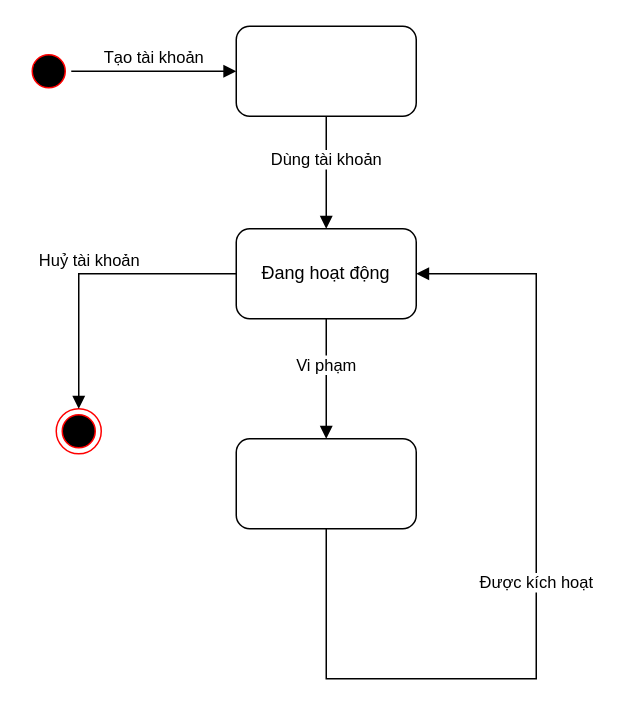
The diagram is 620 pixels wide and 717 high, and some of its shapes have lost their labels. The shapes that lost their labels are listed below. From the top down, each one's centre as x and y in pixels, then its label:
At point 325,70: "Mới tạo".
At point 325,483: "Bị khoá".
